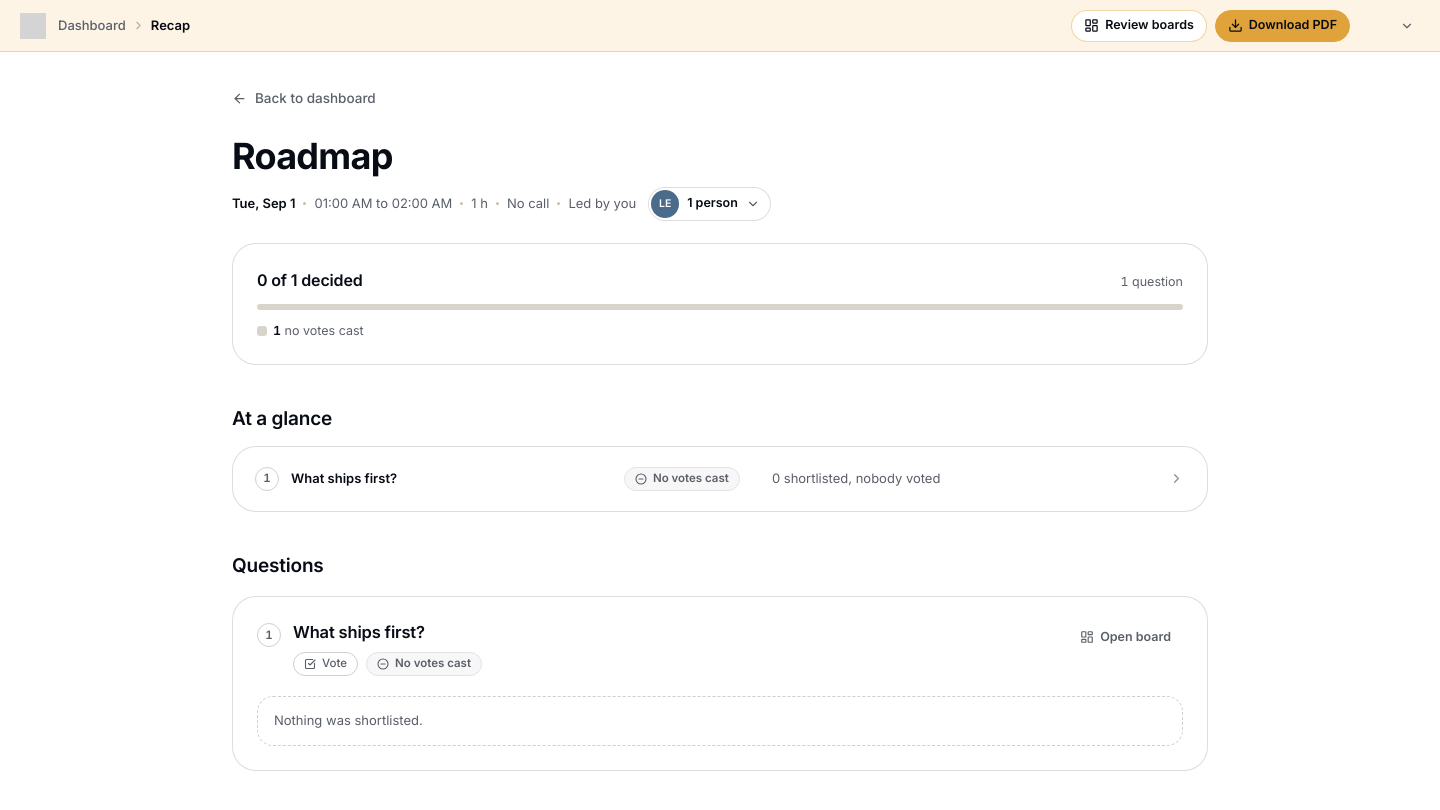
Test case: SessionEndedPage › says a failed download in the page’s status region
Click the button "Download PDF".
click(1282, 26)  # box [1215,10,1350,42]
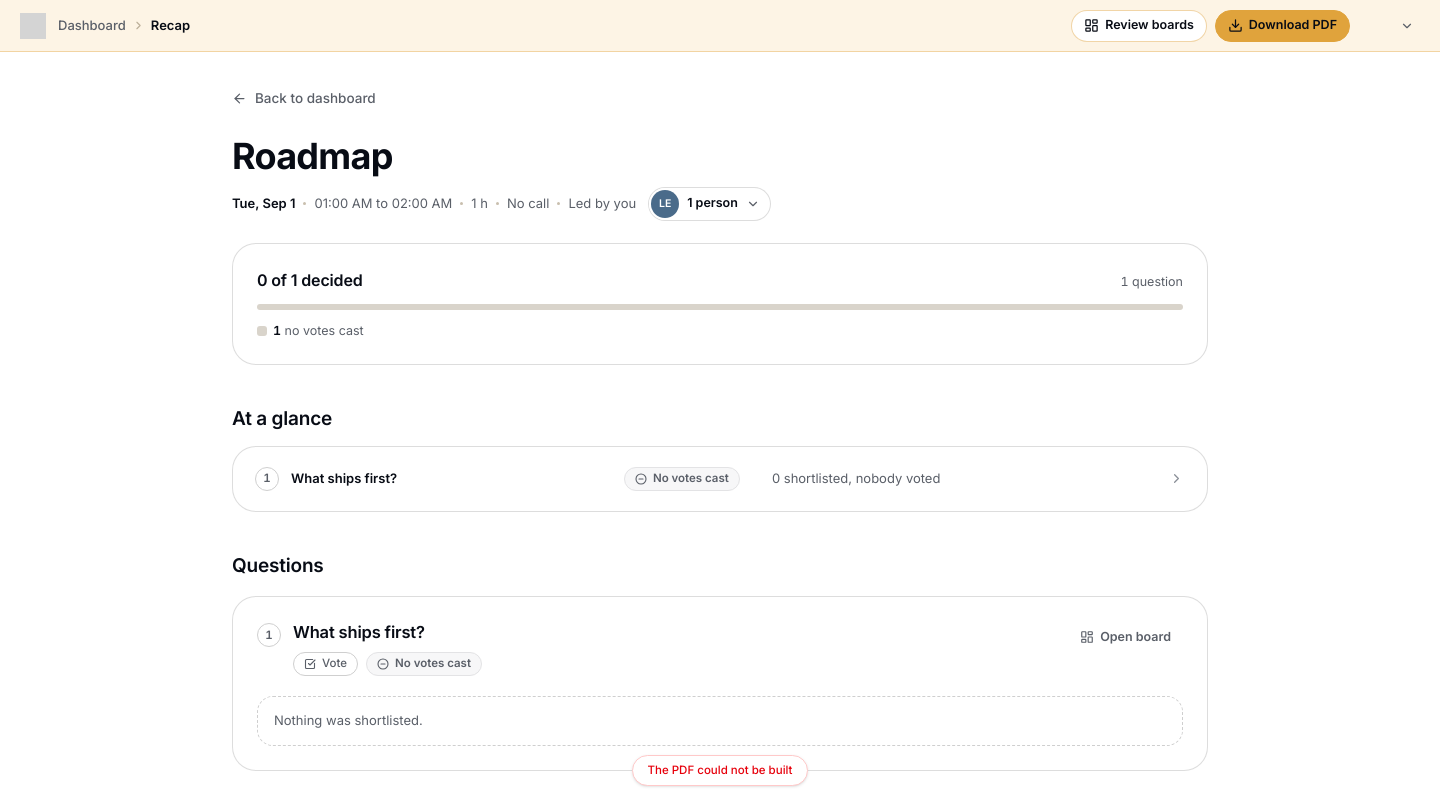
expect the number of messages is 1: met, box [632,755,808,786]
